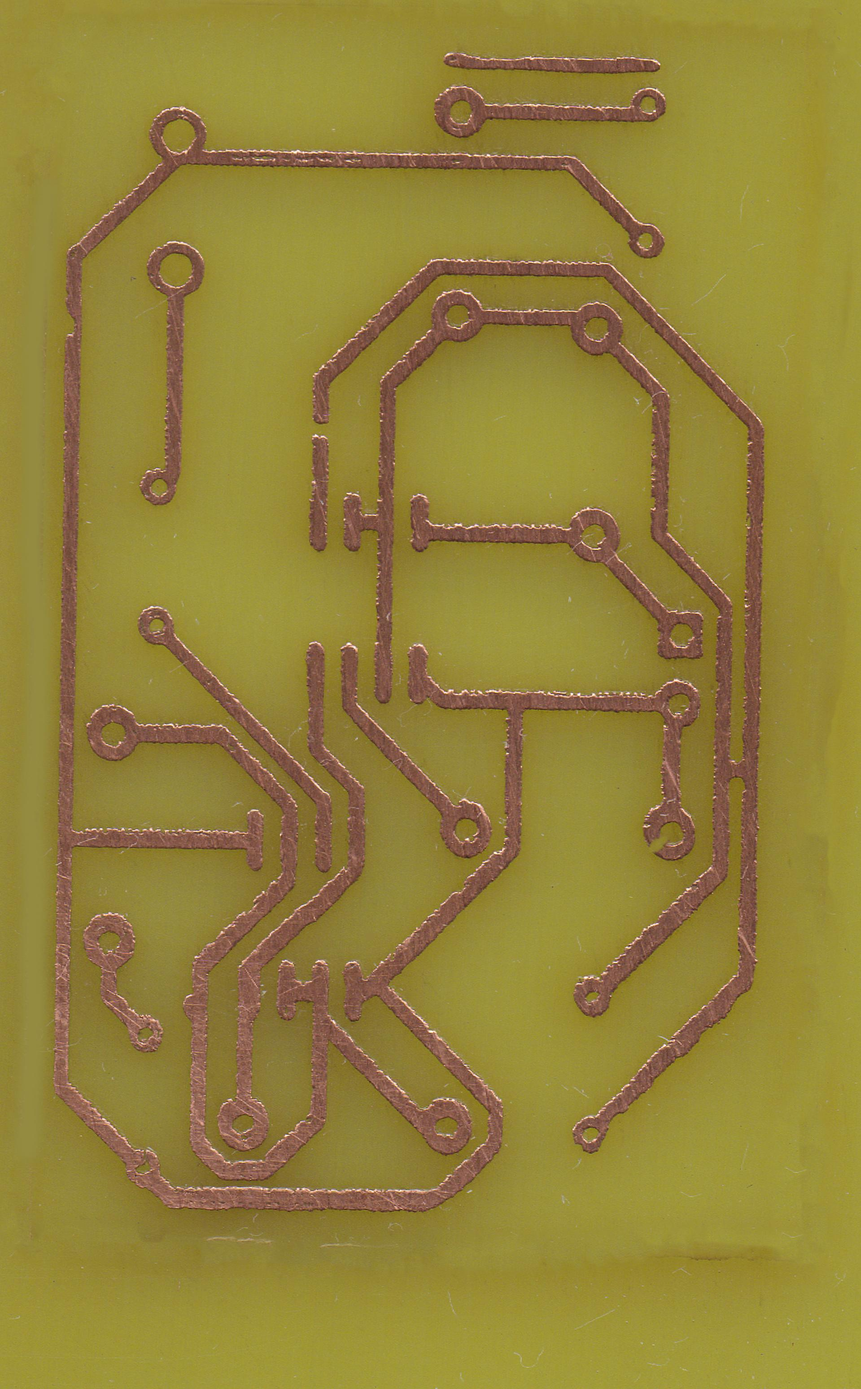missing_hole: (642, 805, 698, 863)
mouse_bite: (58, 308, 89, 347)
open_circuit: (306, 406, 332, 450)
short: (714, 753, 755, 790)
spur: (176, 993, 211, 1026)
spurious_copper: (445, 49, 656, 76)
